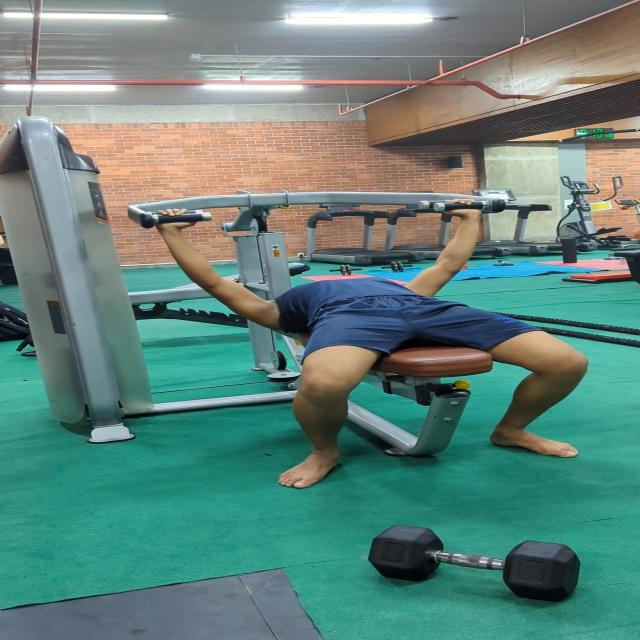Normal_BrenchPress: (158, 189, 608, 502)
